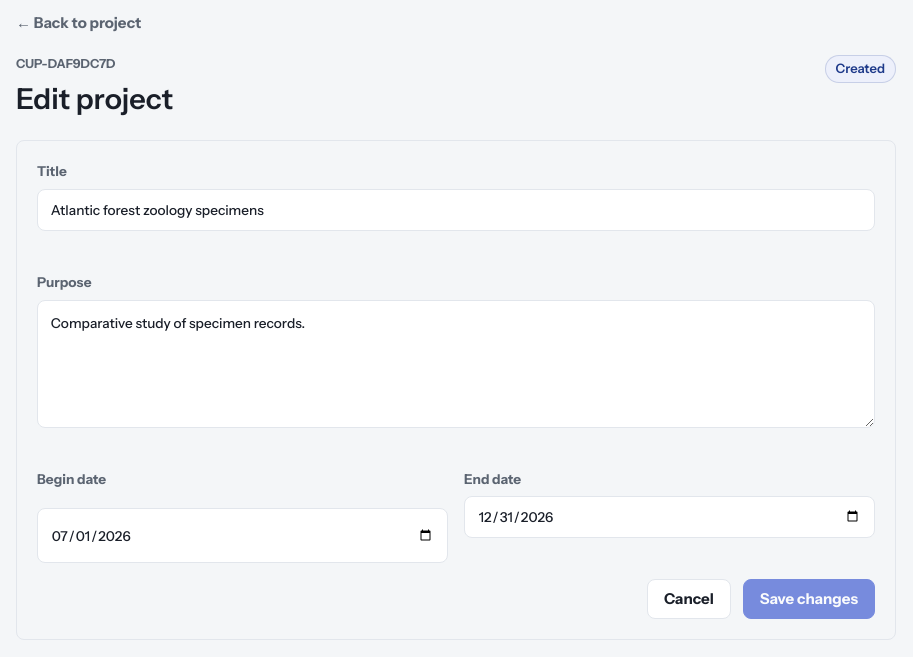
Scenario: ProjectEditPageComponent › shows an inline error and blocks save when end date precedes begin date
The width and height of the screenshot is (913, 657).
In the date field labelled "End date": (670, 517) [464,496,875,538], type "2026-01-01"
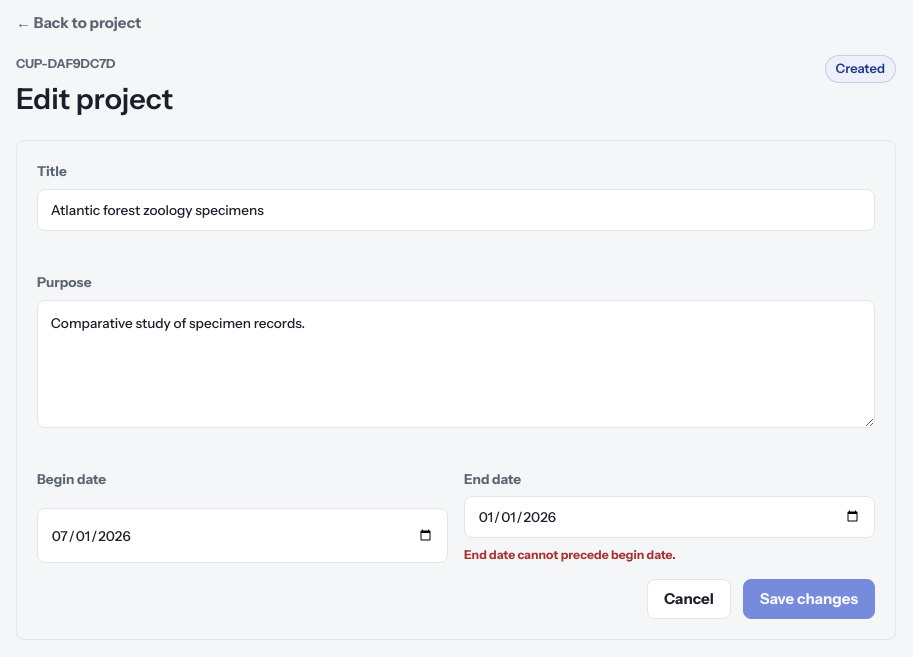
Expected: the button "Save changes" is disabled, [743,579,875,619]
Expected: the text "End date cannot precede begin date." is shown, [464,547,676,562]
